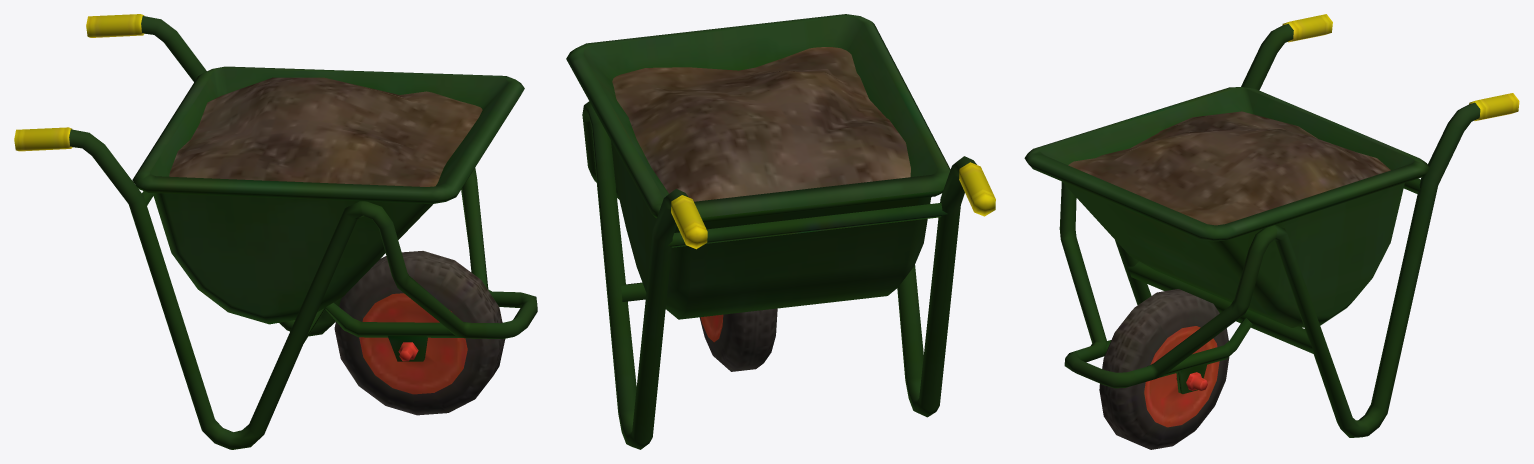
The model's file is wheelbarrow.glb.
3 renders of one model, left to right at view 1: azimuth 30°, elevation 25°; view 2: azimuth 150°, elevation 25°; view 3: azimuth 270°, elevation 25°, orthographic. The views are drawn at different scales.
Bounding box in the file's own units: 9.91 × 6.38 × 9.91.
1 material, 1 textured.
